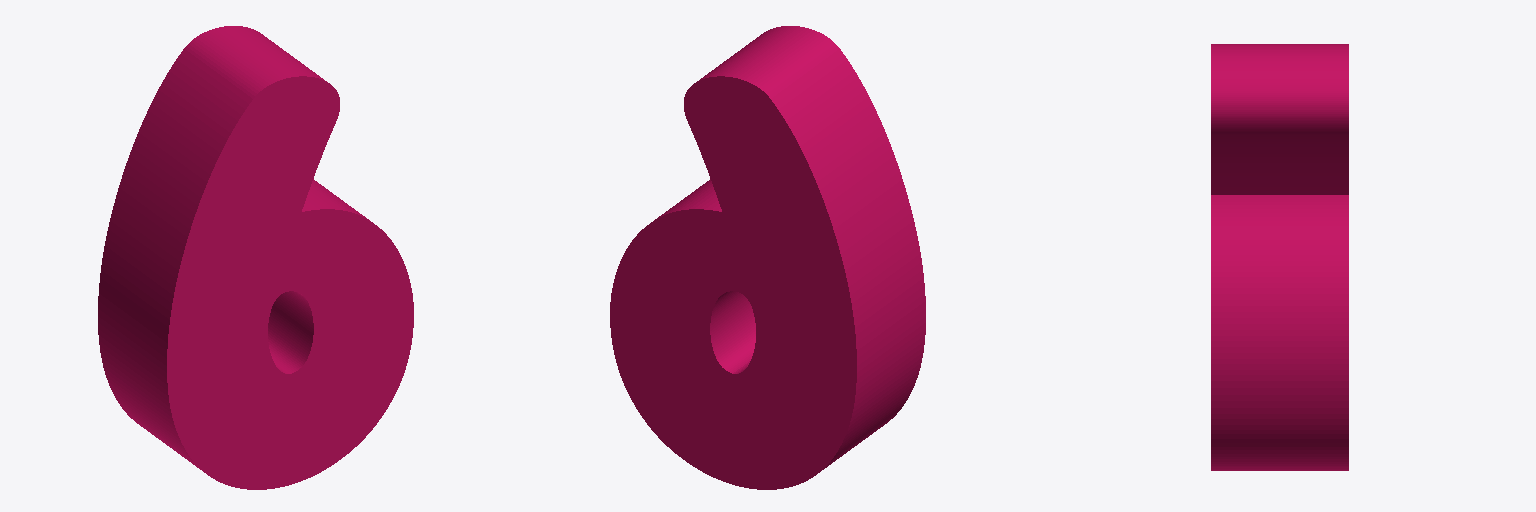
The model's file is Number6.obj.
3 renders of one model, left to right at view 1: azimuth 30°, elevation 25°; view 2: azimuth 150°, elevation 25°; view 3: azimuth 270°, elevation 25°, orthographic.
Parts seen in each view (by area): view 1: Text; view 2: Text; view 3: Text.
Boxes of the visible parts, x1,y1,x2,y2 form: Text: [98, 26, 413, 489]; Text: [610, 26, 925, 489]; Text: [1211, 44, 1348, 470].
Bounding box in the file's own units: 0.3715 × 0.5856 × 0.18.